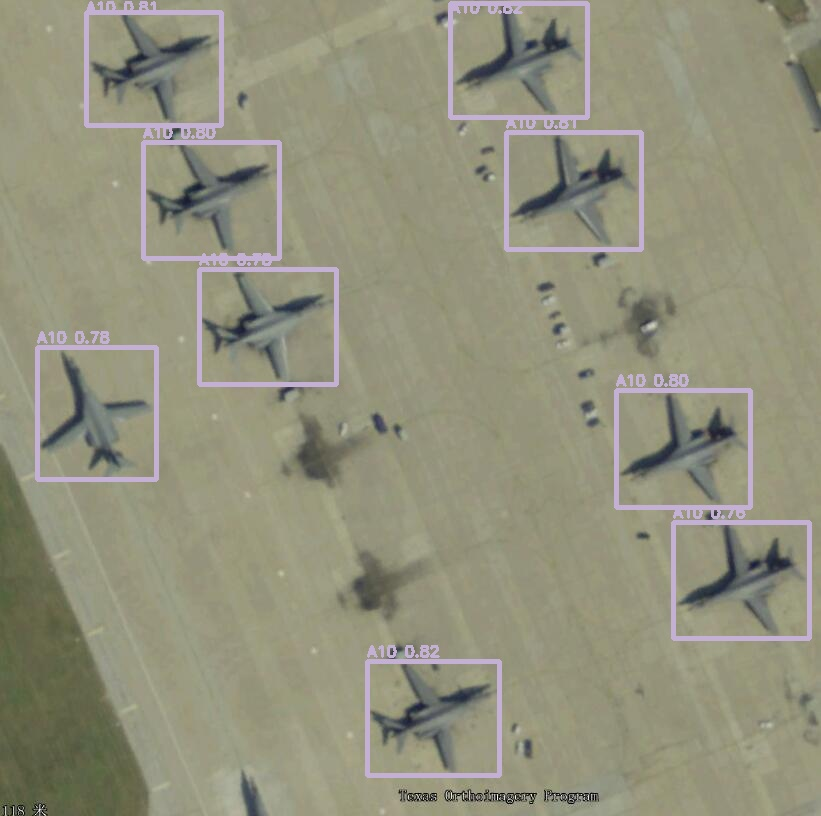A10: (506, 132, 641, 249), (143, 142, 279, 258), (673, 522, 809, 638), (199, 269, 336, 384), (37, 347, 156, 479), (616, 390, 750, 507), (450, 3, 587, 117), (86, 12, 221, 125), (367, 661, 499, 775)
